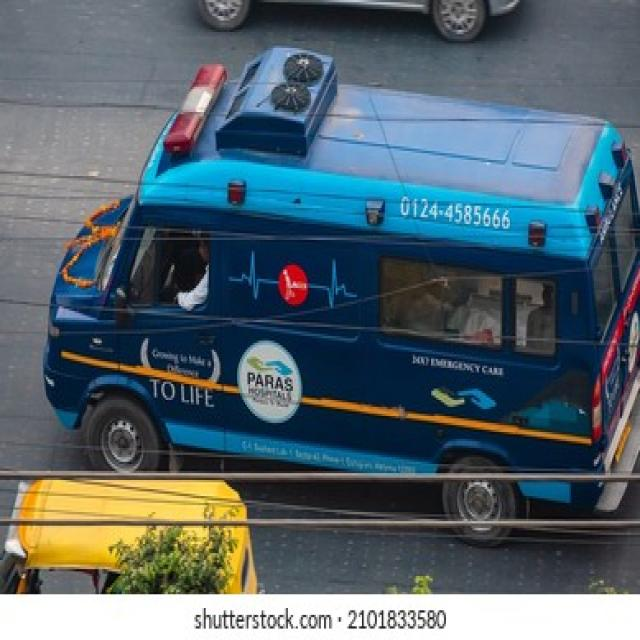ambulance: (46, 42, 640, 540)
